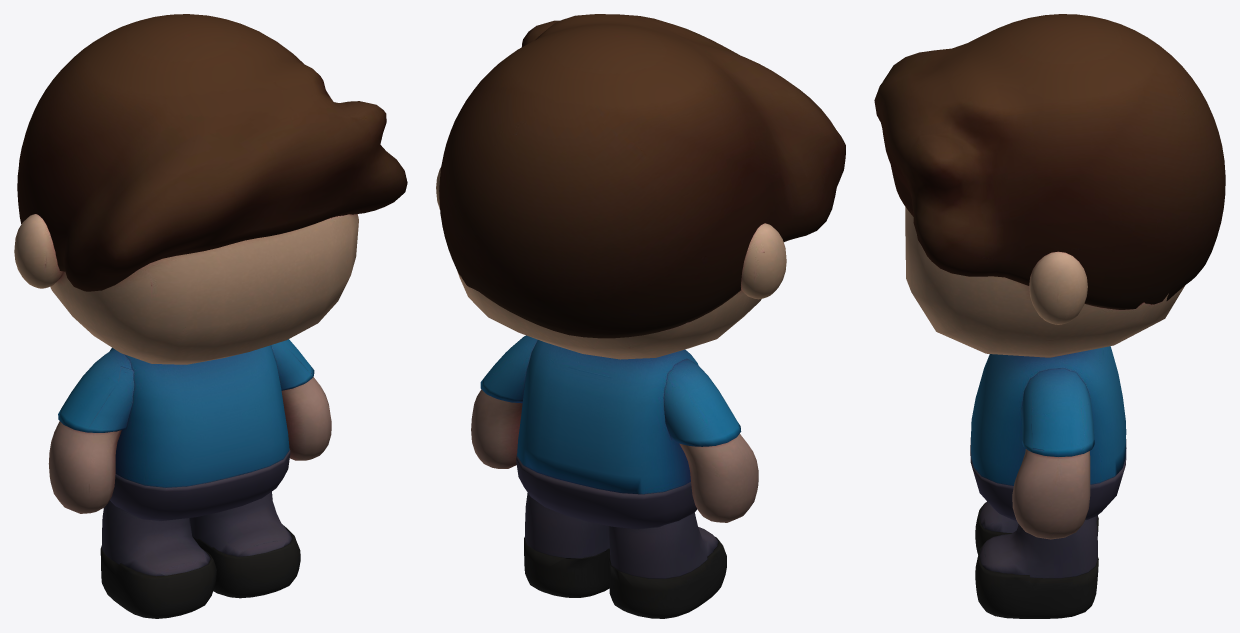
Rendered from npc-joven-2.glb.
3 renders of one model, left to right at view 1: azimuth 30°, elevation 25°; view 2: azimuth 150°, elevation 25°; view 3: azimuth 270°, elevation 25°, orthographic.
Visible parts, largest first — view 1: head_pelo, head_piel, body_camiseta, body_pantalon, legL_pantalon, armL_piel, legL_zapatos, armL_camiseta, legR_pantalon, legR_zapatos, armR_piel, armR_camiseta; view 2: head_pelo, body_camiseta, head_piel, body_pantalon, legL_pantalon, armL_piel, armL_camiseta, legL_zapatos, legR_pantalon, legR_zapatos, armR_piel, armR_camiseta; view 3: head_pelo, head_piel, body_camiseta, armR_piel, armR_camiseta, legR_zapatos, legR_pantalon, body_pantalon, legL_pantalon.
Part boxes in pixels (x1=…): head_pelo: x1=17, y1=14, x2=407, y2=291; head_piel: x1=14, y1=214, x2=358, y2=364; body_camiseta: x1=109, y1=345, x2=289, y2=487; body_pantalon: x1=110, y1=448, x2=290, y2=520; legL_pantalon: x1=101, y1=500, x2=210, y2=576; armL_piel: x1=48, y1=421, x2=121, y2=513; legL_zapatos: x1=100, y1=545, x2=216, y2=618; armL_camiseta: x1=58, y1=349, x2=134, y2=432; legR_pantalon: x1=189, y1=491, x2=291, y2=556; legR_zapatos: x1=192, y1=524, x2=300, y2=598; armR_piel: x1=281, y1=377, x2=331, y2=460; armR_camiseta: x1=271, y1=339, x2=314, y2=390; head_pelo: x1=439, y1=14, x2=845, y2=338; body_camiseta: x1=517, y1=340, x2=698, y2=494; head_piel: x1=436, y1=167, x2=786, y2=359; body_pantalon: x1=516, y1=455, x2=697, y2=528; legL_pantalon: x1=608, y1=512, x2=718, y2=578; armL_piel: x1=679, y1=433, x2=758, y2=522; armL_camiseta: x1=663, y1=359, x2=741, y2=446; legL_zapatos: x1=609, y1=537, x2=726, y2=618; legR_pantalon: x1=525, y1=493, x2=609, y2=558; legR_zapatos: x1=524, y1=537, x2=610, y2=597; armR_piel: x1=471, y1=389, x2=522, y2=468; armR_camiseta: x1=480, y1=335, x2=537, y2=403; head_pelo: x1=874, y1=14, x2=1225, y2=309; head_piel: x1=905, y1=207, x2=1185, y2=357; body_camiseta: x1=971, y1=346, x2=1126, y2=485; armR_piel: x1=1012, y1=449, x2=1090, y2=539; armR_camiseta: x1=1021, y1=368, x2=1094, y2=456; legR_zapatos: x1=975, y1=543, x2=1098, y2=618; legR_pantalon: x1=979, y1=516, x2=1097, y2=578; body_pantalon: x1=970, y1=437, x2=1126, y2=521; legL_pantalon: x1=979, y1=501, x2=1097, y2=532.
Bounding box in the file's own units: 2.93 × 4.57 × 2.62.
Materials: 5 (5 with a texture image).
